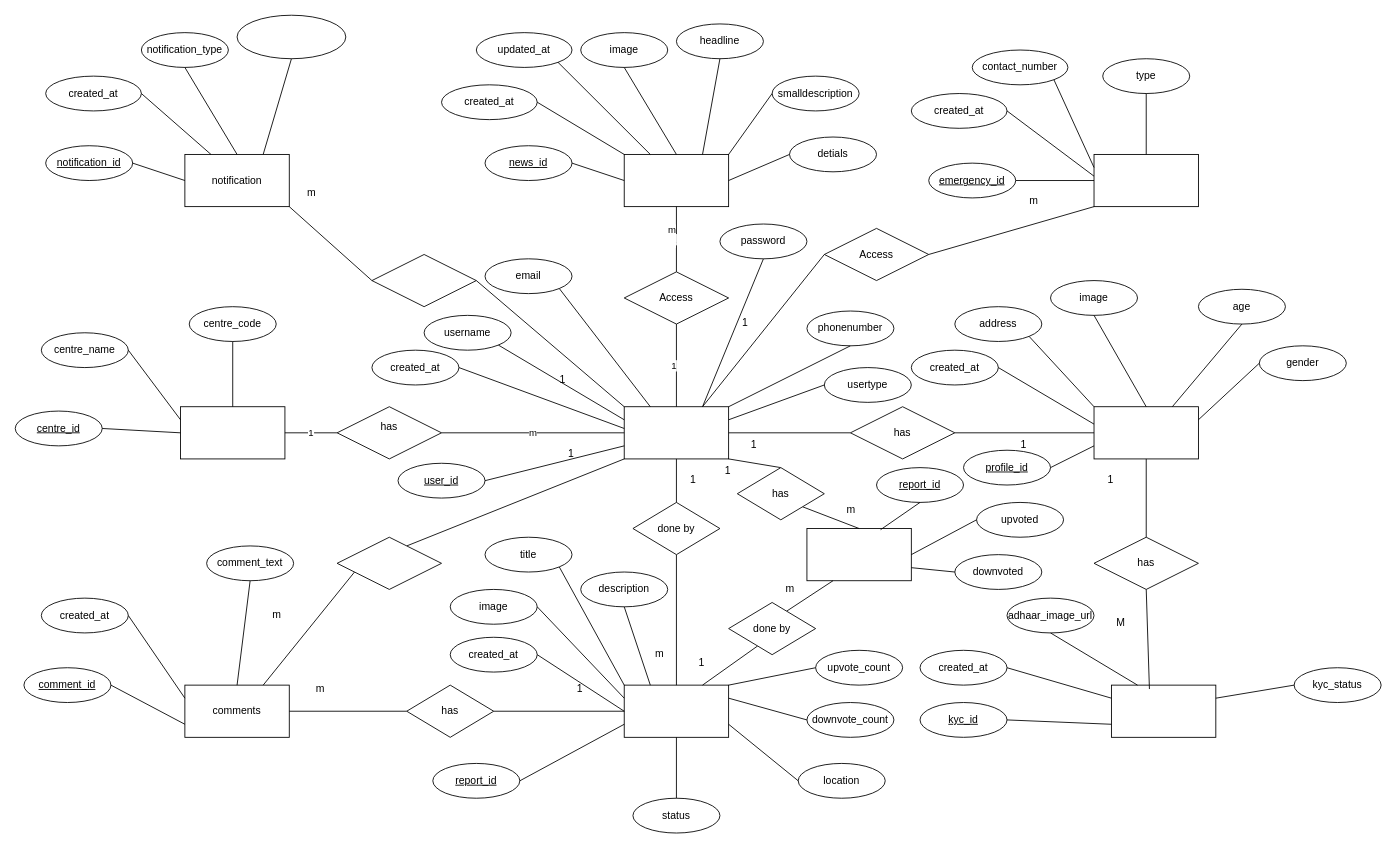
Image size: 1396x848. Some labels were removed from this diagram. The centre of each missing label's shape, as x and y in pixels:
"add" belongs at point 389,562.
"emergency" belongs at point 1145,180.
"Investigation_centre" belongs at point 232,432.
"kyc_application" belongs at point 1163,710.
"news" belongs at point 676,180.
"notification_message" belongs at point 291,36.
"recieves" belongs at point 423,280.
"report_vote" belongs at point 858,554.
"reports" belongs at point 676,710.
"user_profile" belongs at point 1145,432.
"users" belongs at point 676,432.
